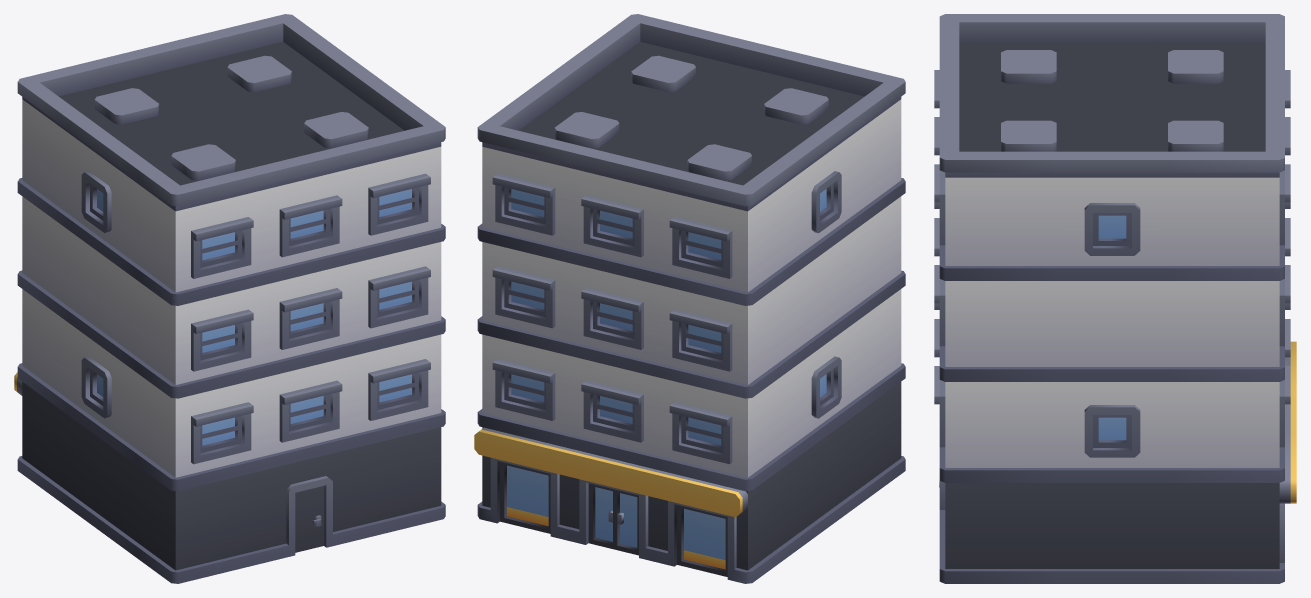
File: commercial-building-i.glb
The picture shows the model from 3 angles, left to right: view 1: azimuth 30°, elevation 25°; view 2: azimuth 150°, elevation 25°; view 3: azimuth 270°, elevation 25°; orthographic projection. The views are drawn at different scales.
Parts seen in each view (by area): view 1: building-i; view 2: building-i; view 3: building-i.
Boxes of the visible parts, left/top/right/bottom form: building-i: left=14, top=14, right=445, bottom=583; building-i: left=474, top=14, right=905, bottom=583; building-i: left=934, top=14, right=1296, bottom=583.
Size of the model in its own units: 1.24 by 1.68 by 1.3.
1 material, 1 textured.
